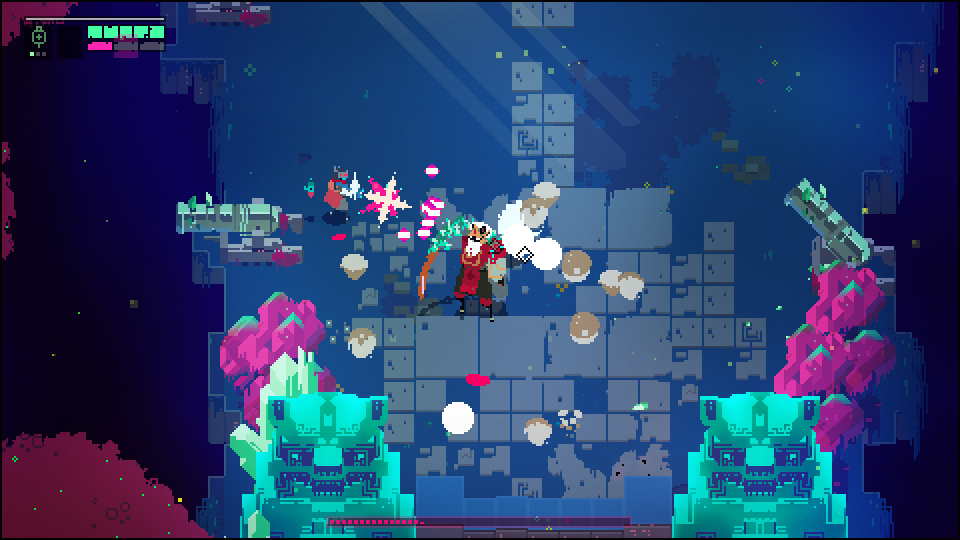hanged_man: (416, 213, 512, 323)
player: (324, 163, 361, 225)
